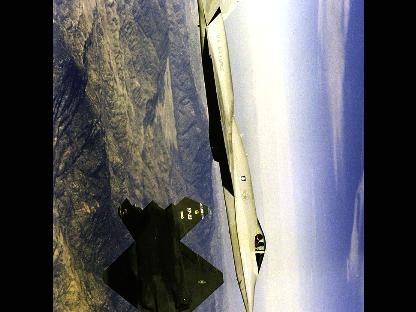US2: (192, 0, 266, 309), (101, 194, 224, 309)
